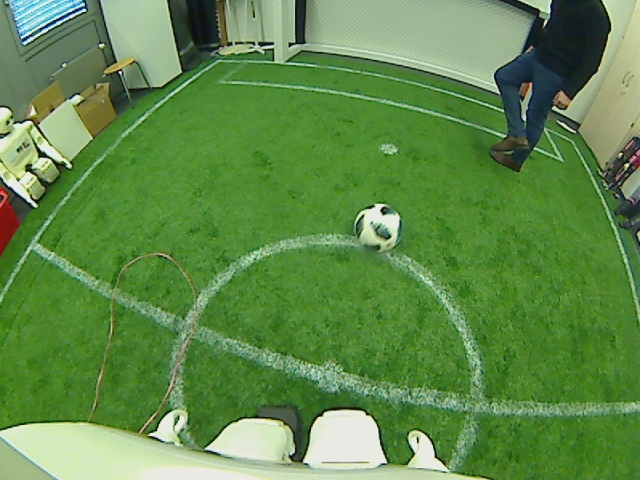ball: (352, 202, 402, 252)
